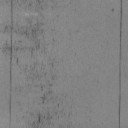surface scratch: (118, 0, 123, 128), (9, 0, 13, 128)
